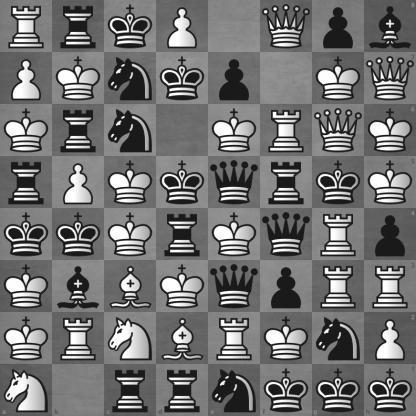B: (105, 261, 156, 312), (157, 313, 208, 364)
K: (364, 156, 416, 209), (364, 104, 416, 156), (1, 105, 52, 156), (1, 261, 52, 312), (1, 313, 52, 364), (53, 53, 104, 104), (105, 157, 156, 208), (105, 209, 156, 260), (157, 261, 208, 312), (209, 105, 260, 156), (209, 209, 260, 260), (261, 313, 312, 364), (313, 53, 364, 104)
N: (0, 364, 52, 416), (105, 313, 156, 364)
P: (364, 312, 416, 364), (1, 53, 52, 104), (53, 157, 104, 208), (157, 1, 208, 52)
Q: (364, 52, 416, 104), (261, 1, 312, 52), (313, 105, 364, 156)
R: (364, 260, 416, 312), (1, 1, 52, 52), (53, 313, 104, 364), (209, 313, 260, 364), (261, 105, 312, 156), (313, 209, 364, 260), (313, 261, 364, 312)
b: (364, 0, 416, 52), (53, 261, 104, 312)
board: (0, 0, 415, 415)
k: (260, 364, 312, 416), (312, 364, 364, 416), (364, 364, 416, 416), (1, 209, 52, 260), (53, 209, 104, 260), (105, 1, 156, 52), (157, 53, 208, 104), (157, 157, 208, 208), (313, 157, 364, 208)
n: (209, 364, 260, 416), (105, 53, 156, 104), (105, 105, 156, 156), (313, 313, 364, 364)
p: (364, 209, 416, 260), (209, 53, 260, 104), (261, 261, 312, 312), (313, 1, 364, 52)
q: (209, 157, 260, 208), (209, 261, 260, 312), (261, 209, 312, 260)
r: (156, 364, 209, 416), (104, 364, 156, 416), (1, 157, 52, 208), (53, 1, 104, 52), (53, 105, 104, 156), (157, 209, 208, 260), (261, 157, 312, 208)
